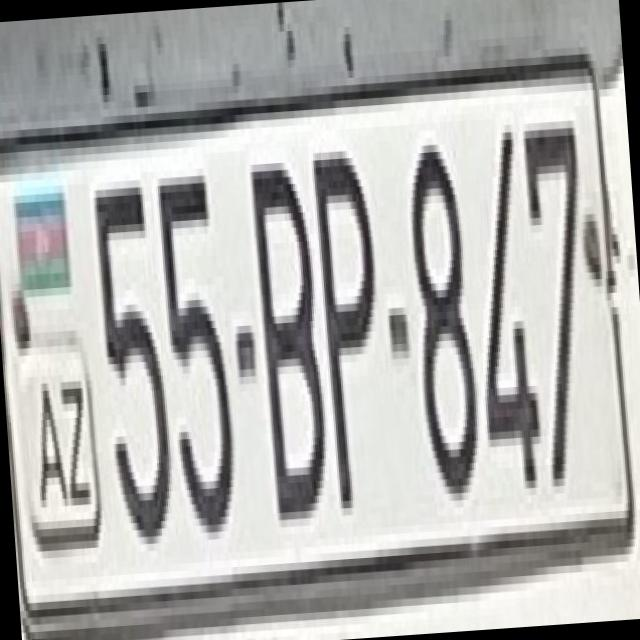4: (456, 94, 548, 492)
5: (145, 145, 242, 542), (78, 149, 174, 546)
7: (510, 90, 606, 488)
8: (392, 113, 484, 503)
B: (238, 132, 334, 536)
P: (303, 134, 397, 524)
